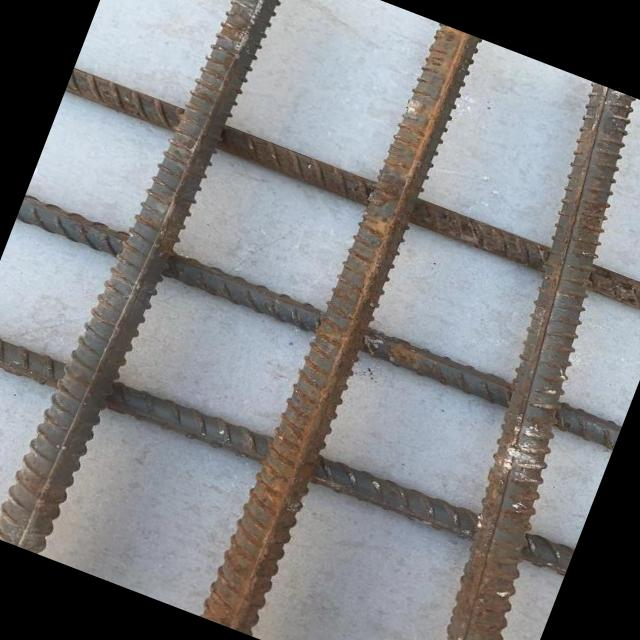ribbed bar: (203, 20, 486, 638), (0, 0, 295, 564), (16, 193, 624, 452), (363, 81, 640, 640), (0, 319, 575, 585), (65, 64, 640, 321)
